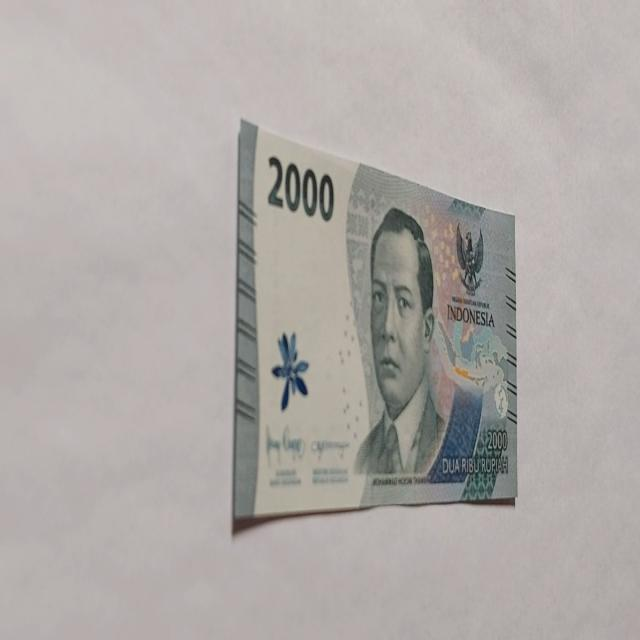dua ribu rupiah: (232, 117, 518, 530), (352, 205, 448, 479)
